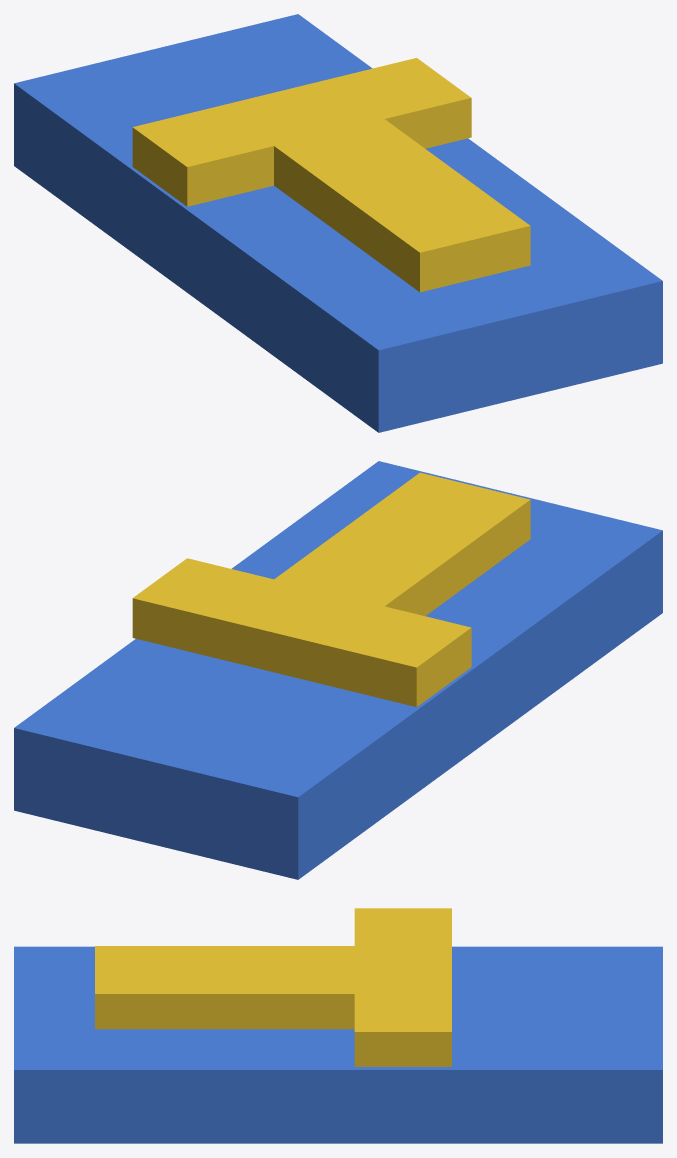
Rendered from sandalia_crianca.glb.
3 renders of one model, top to bottom at view 1: azimuth 30°, elevation 25°; view 2: azimuth 150°, elevation 25°; view 3: azimuth 270°, elevation 25°, orthographic. The views are drawn at different scales.
Visible parts, largest first — view 1: _MeshInstance3D_5949_2, _MeshInstance3D_5951_0, _MeshInstance3D_5950_1; view 2: _MeshInstance3D_5949_2, _MeshInstance3D_5950_1, _MeshInstance3D_5951_0; view 3: _MeshInstance3D_5949_2, _MeshInstance3D_5951_0, _MeshInstance3D_5950_1.
Boxes of the visible parts, bbox=[...] form: _MeshInstance3D_5949_2: bbox=[14, 14, 662, 432]; _MeshInstance3D_5951_0: bbox=[256, 105, 530, 292]; _MeshInstance3D_5950_1: bbox=[132, 58, 471, 206]; _MeshInstance3D_5949_2: bbox=[14, 461, 662, 879]; _MeshInstance3D_5950_1: bbox=[132, 558, 471, 707]; _MeshInstance3D_5951_0: bbox=[257, 472, 530, 615]; _MeshInstance3D_5949_2: bbox=[14, 946, 662, 1143]; _MeshInstance3D_5951_0: bbox=[95, 946, 387, 1029]; _MeshInstance3D_5950_1: bbox=[354, 908, 451, 1066].
Bounding box in the file's own units: 0.09 × 0.038 × 0.2.
